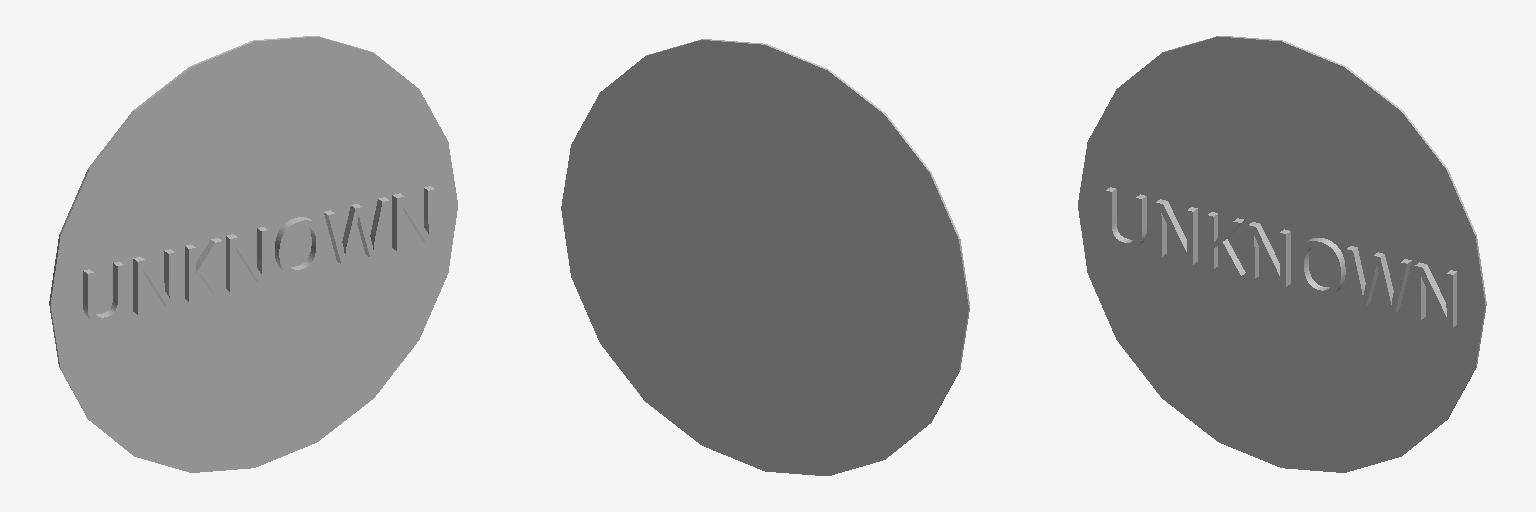
The model's file is tinker.obj.
The picture shows the model from 3 angles: view 1: azimuth 30°, elevation 25°; view 2: azimuth 150°, elevation 25°; view 3: azimuth 330°, elevation 25°; orthographic projection.
Visible parts, largest first — view 1: obj_0; view 2: obj_0; view 3: obj_0.
Part boxes in pixels (x1,y1,x2,y2): obj_0: (49,36,457,472); obj_0: (561,39,969,475); obj_0: (1078,36,1486,472).
Bounding box in the file's own units: 160 × 160 × 4.12.